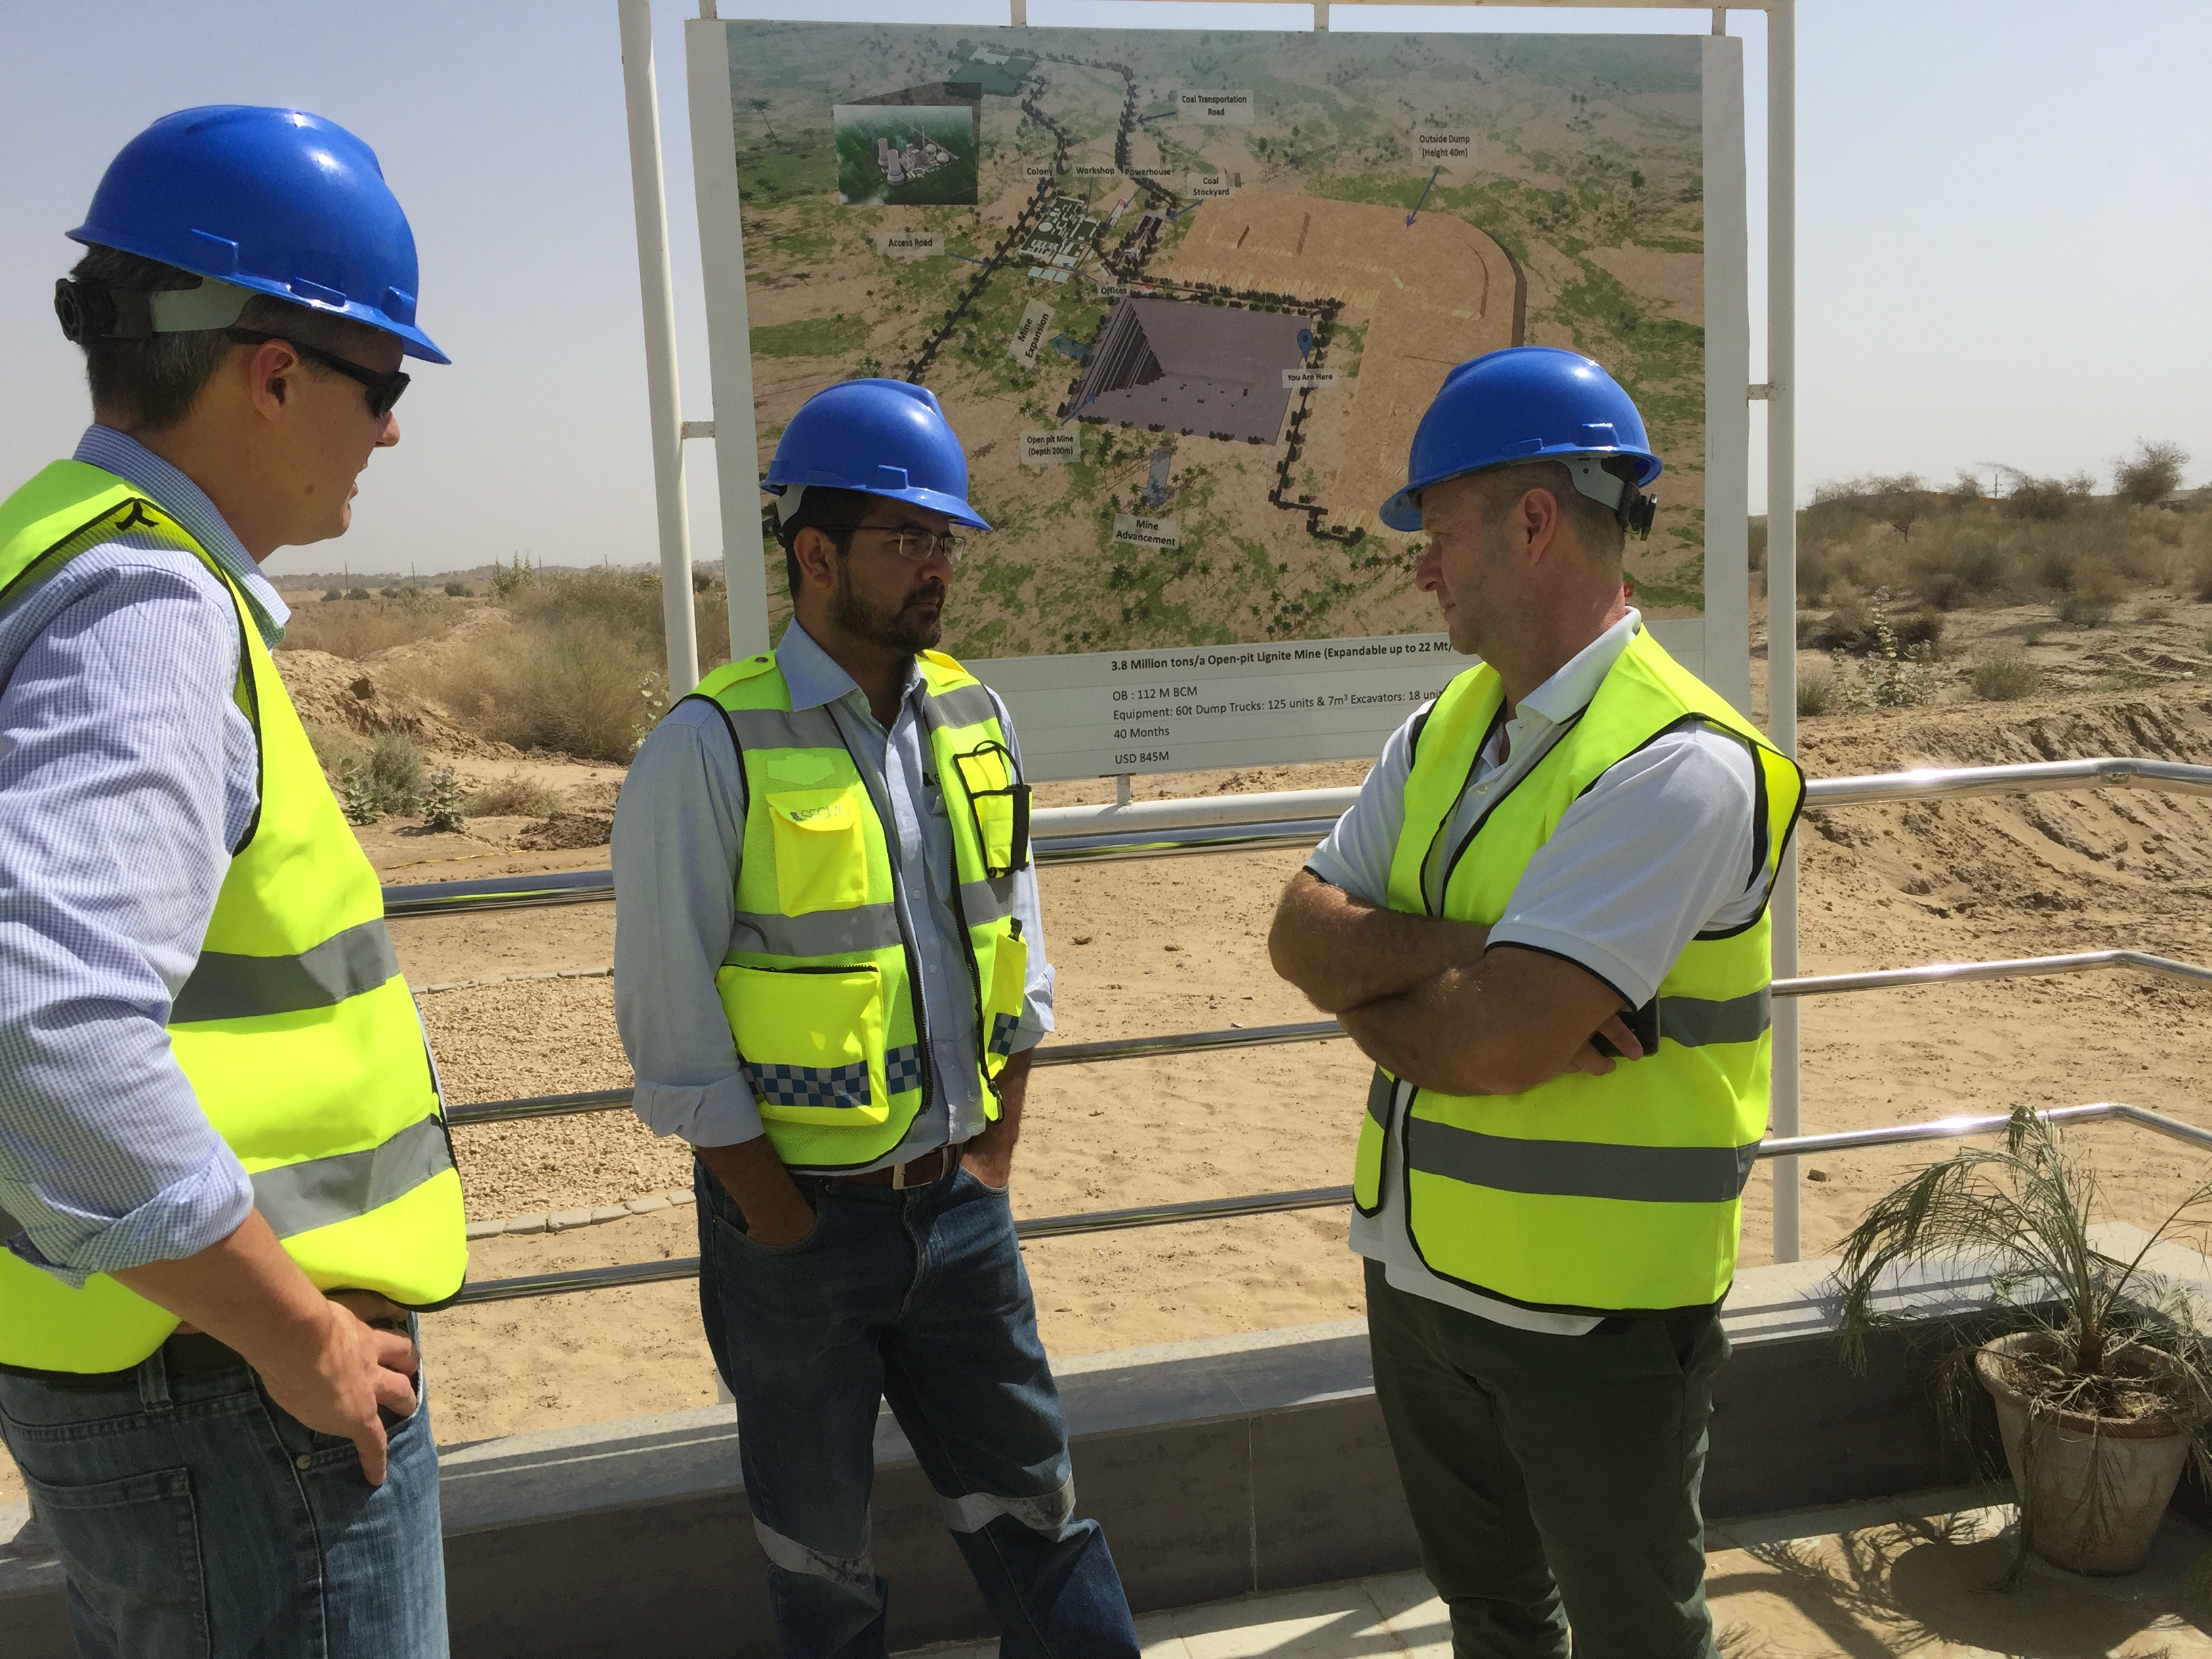Helmet: (56, 84, 474, 582), (1353, 324, 1681, 681), (738, 362, 1005, 690)
Reflective vest: (0, 457, 479, 1403), (1341, 633, 1810, 1323), (662, 636, 1078, 1187)
